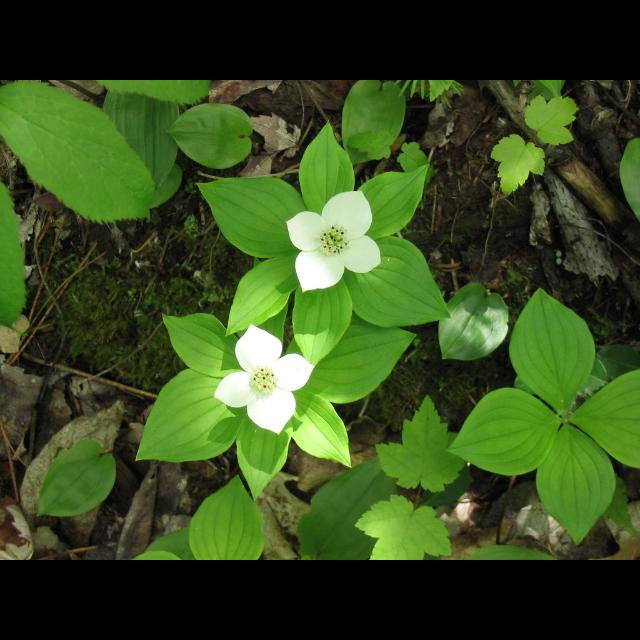Flower: (282, 187, 382, 293), (217, 326, 307, 429)
